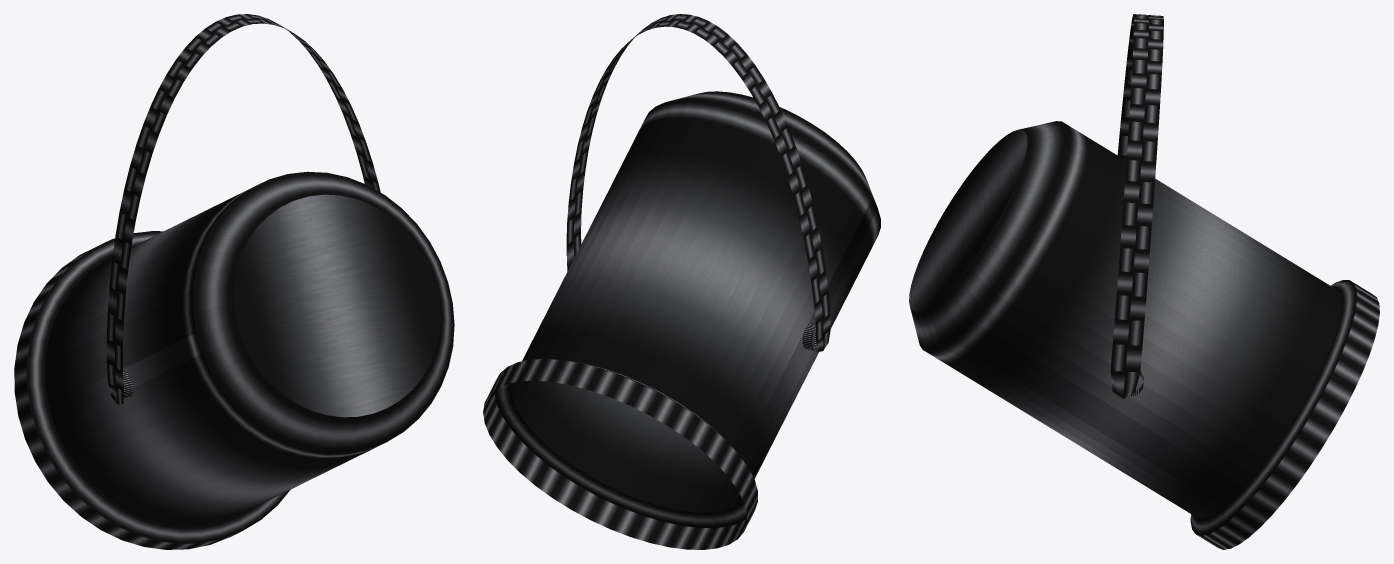
File: stage_light_3.obj
3 views of the same model, side by side, from view 1: azimuth 30°, elevation 25°; view 2: azimuth 150°, elevation 25°; view 3: azimuth 270°, elevation 25° (orthographic). The views are drawn at different scales.
Parts seen in each view (by area): view 1: Cylinder_001_Cylinder_006; view 2: Cylinder_001_Cylinder_006; view 3: Cylinder_001_Cylinder_006.
Part boxes in pixels (x1,y1,x2,y2): Cylinder_001_Cylinder_006: [14, 14, 454, 549]; Cylinder_001_Cylinder_006: [483, 14, 880, 549]; Cylinder_001_Cylinder_006: [909, 14, 1379, 549].
Size of the model in its own units: 0.7365 by 1.4 by 1.17.
